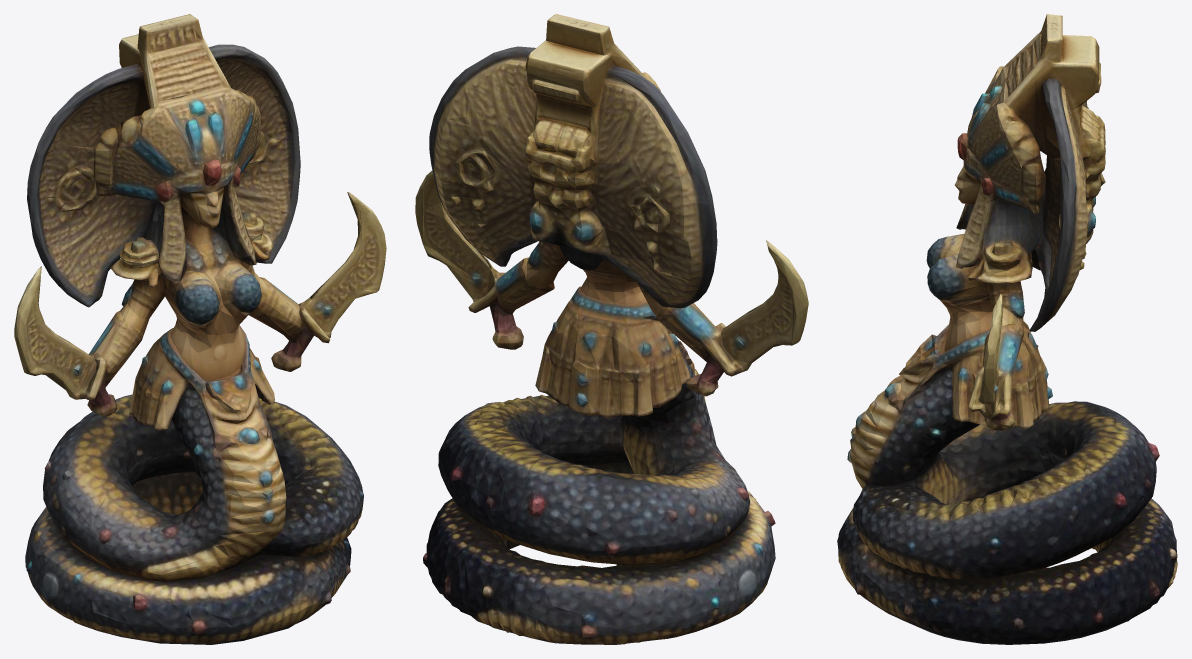
The model's file is pyramidNaga.glb.
3 views of the same model, side by side, from view 1: azimuth 30°, elevation 25°; view 2: azimuth 150°, elevation 25°; view 3: azimuth 270°, elevation 25° (orthographic). The views are drawn at different scales.
Visible parts, largest first — view 1: world; view 2: world; view 3: world.
Part boxes in pixels (<box>): world: <box>14,14,386,644</box>; world: <box>415,14,808,644</box>; world: <box>837,14,1177,644</box>.
Size of the model in its own units: 0.7091 by 0.9999 by 0.555.
Materials: 1 (1 with a texture image).
